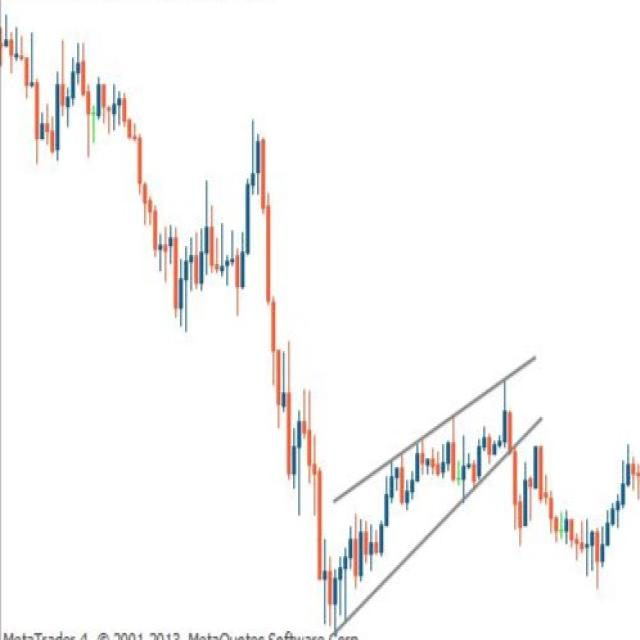Rising-Wedge: (289, 351, 569, 636)
